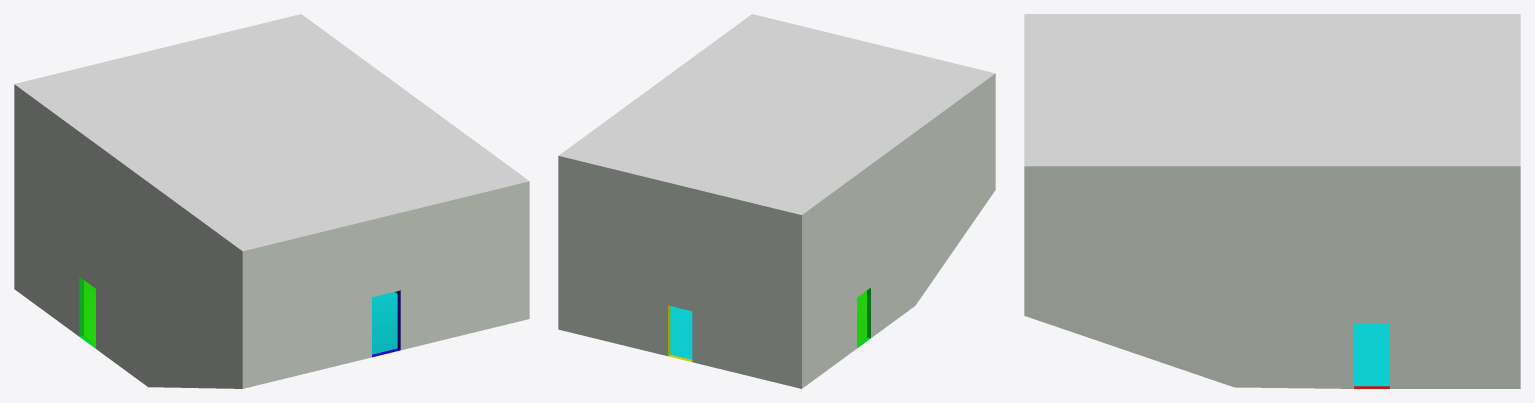
The model's file is dungeon_room_3.fbx.
3 views of the same model, side by side, from view 1: azimuth 30°, elevation 25°; view 2: azimuth 150°, elevation 25°; view 3: azimuth 270°, elevation 25° (orthographic). The views are drawn at different scales.
Visible parts, largest first — view 1: Room3; view 2: Room3; view 3: Room3.
Part boxes in pixels (x1,y1,x2,y2): Room3: [14, 14, 529, 388]; Room3: [558, 14, 995, 388]; Room3: [1024, 14, 1520, 388].
Size of the model in its own units: 1000 by 1379 by 682.
